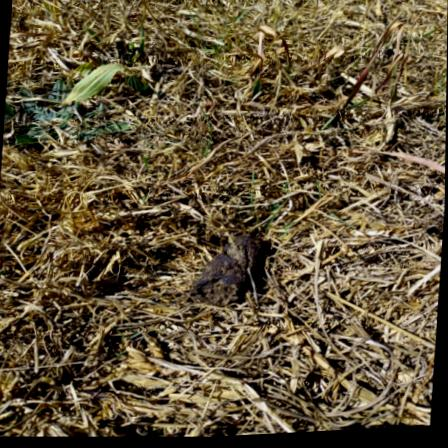dog-poop: (199, 234, 259, 311)
